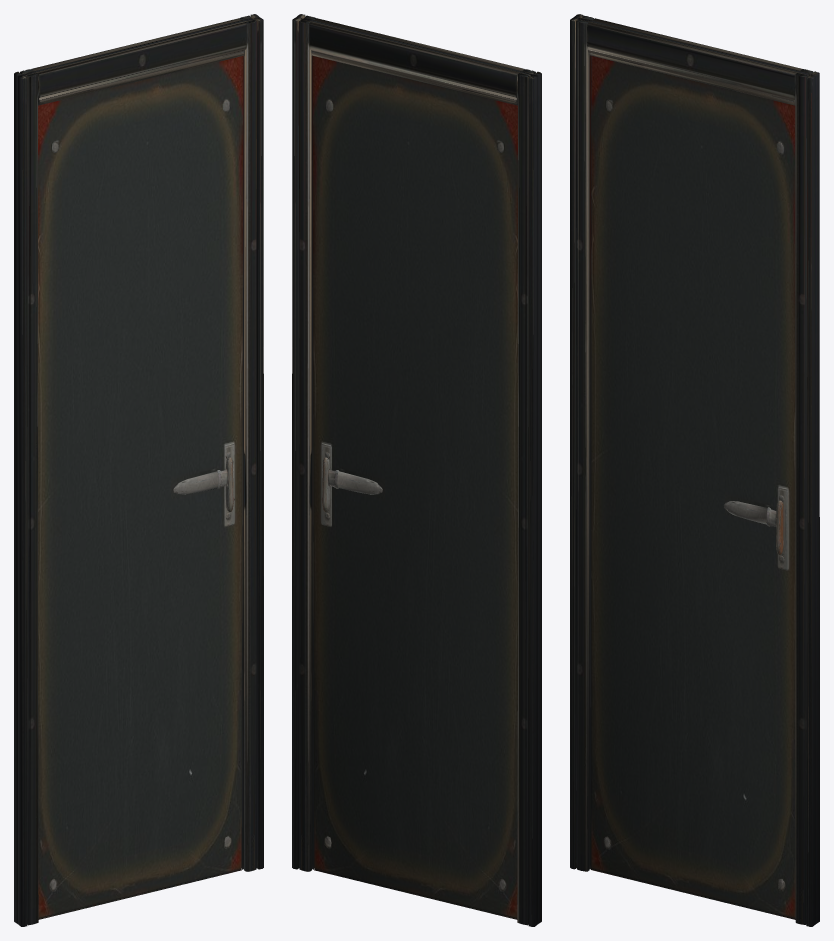
The model's file is player-train-door-leaf.glb.
3 views of the same model, side by side, from view 1: azimuth 30°, elevation 25°; view 2: azimuth 150°, elevation 25°; view 3: azimuth 330°, elevation 25° (orthographic).
Parts seen in each view (by area): view 1: player-train-door-leaf; view 2: player-train-door-leaf; view 3: player-train-door-leaf.
Boxes of the visible parts, box(x1,y1,x2,y2) form: player-train-door-leaf: box(14, 14, 263, 926); player-train-door-leaf: box(292, 14, 541, 926); player-train-door-leaf: box(570, 14, 819, 926).
Bounding box in the file's own units: 0.608 × 2.03 × 0.045.
1 material, 1 textured.
